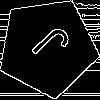J: (22, 22, 73, 73)
